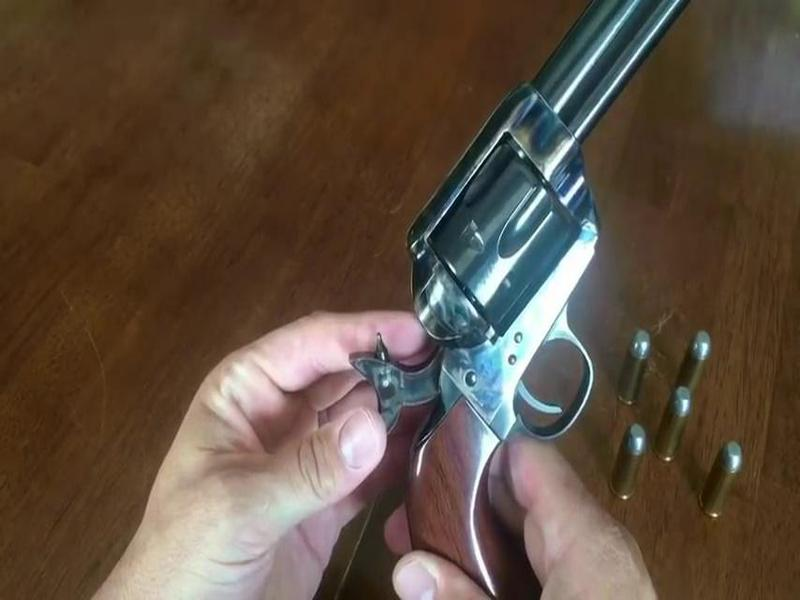Revolver: (393, 1, 679, 593)
